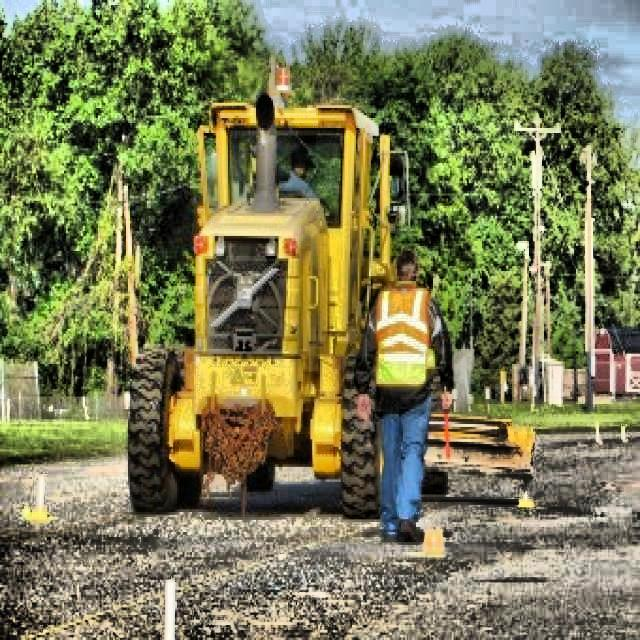bull_dozer/loader/grader: (118, 46, 544, 528)
person: (352, 240, 458, 550), (278, 144, 328, 222)
